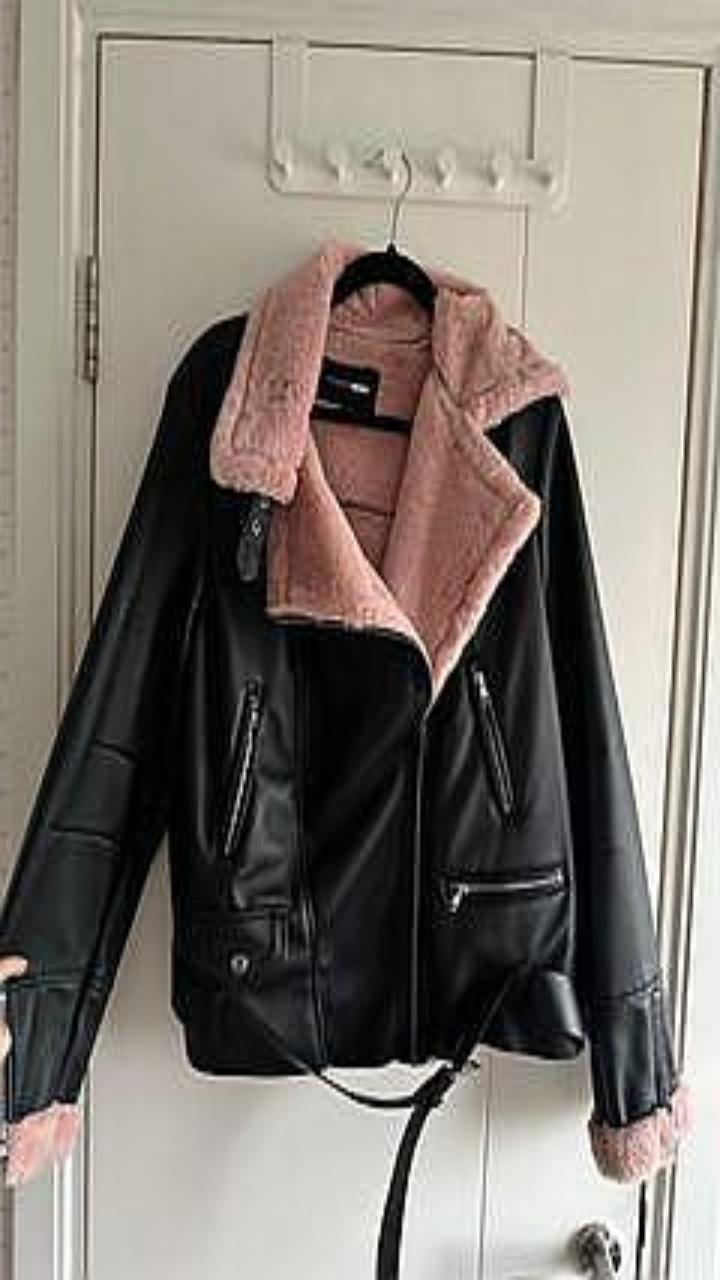Sports_Jacket: (0, 240, 687, 1181)
